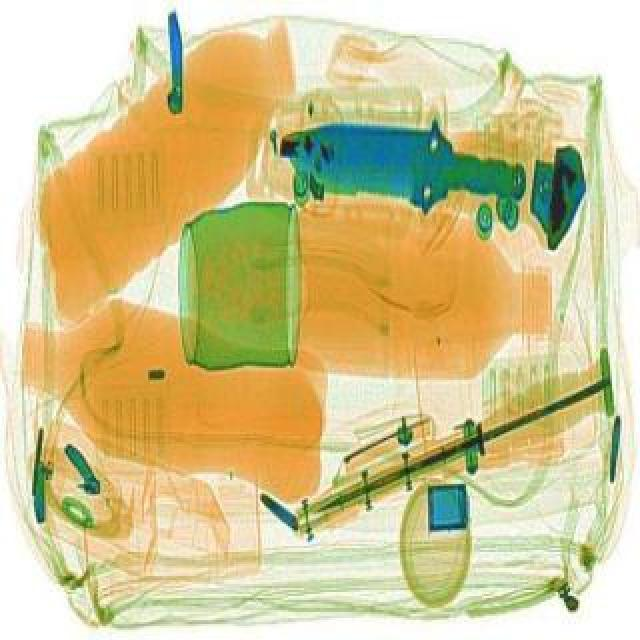knife: (300, 348, 634, 538), (270, 94, 532, 224)
